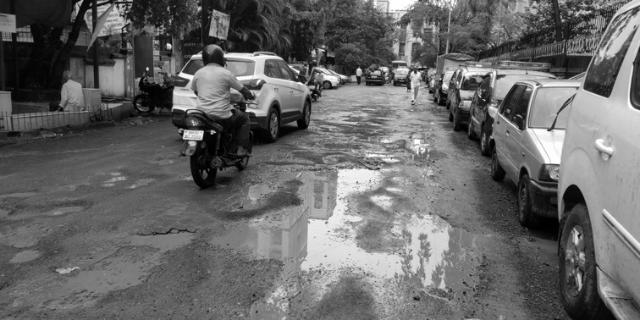Pothole: (196, 148, 498, 320), (1, 214, 210, 320), (0, 193, 100, 267)
